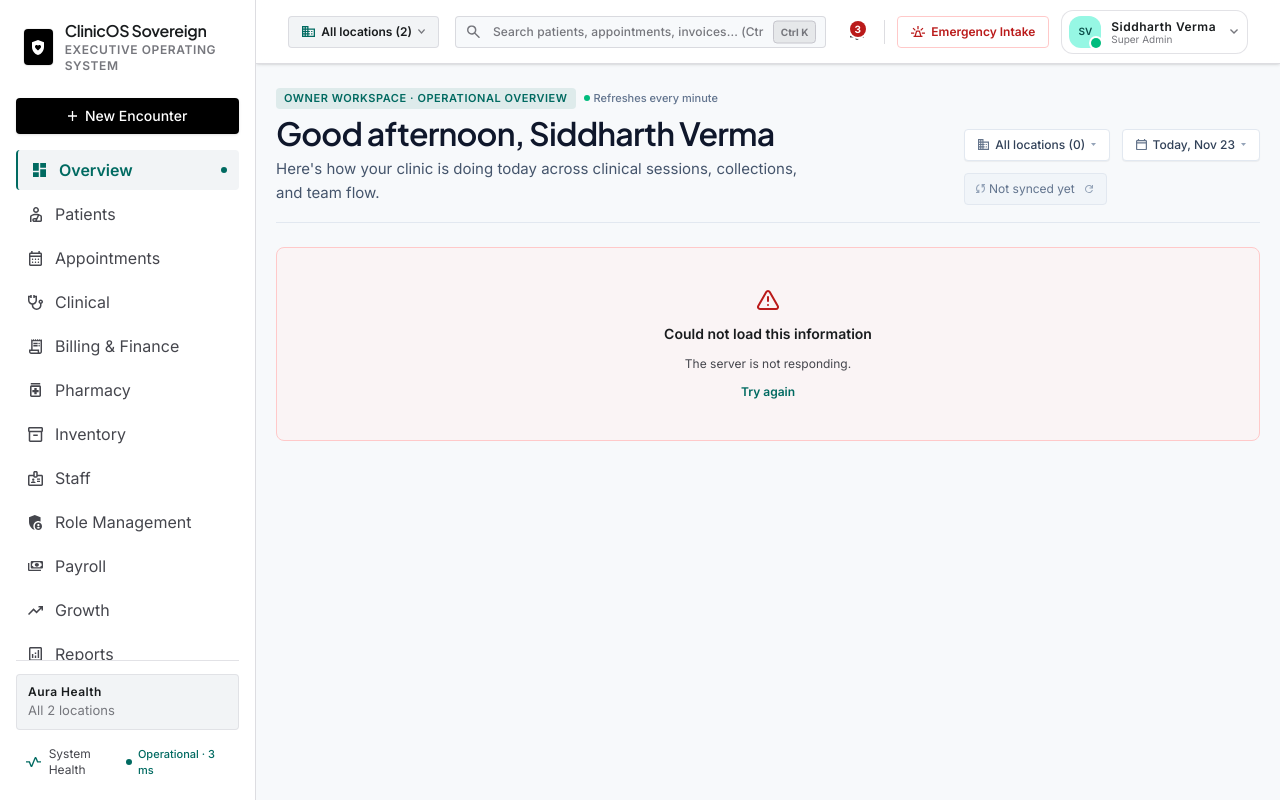
Scenario: owner dashboard › explains a failed load and retries
Expected: the text "The server is not responding." is shown, [685,356,851,372]
Click the button "Try again" at (768, 392), box [741,384,795,400]
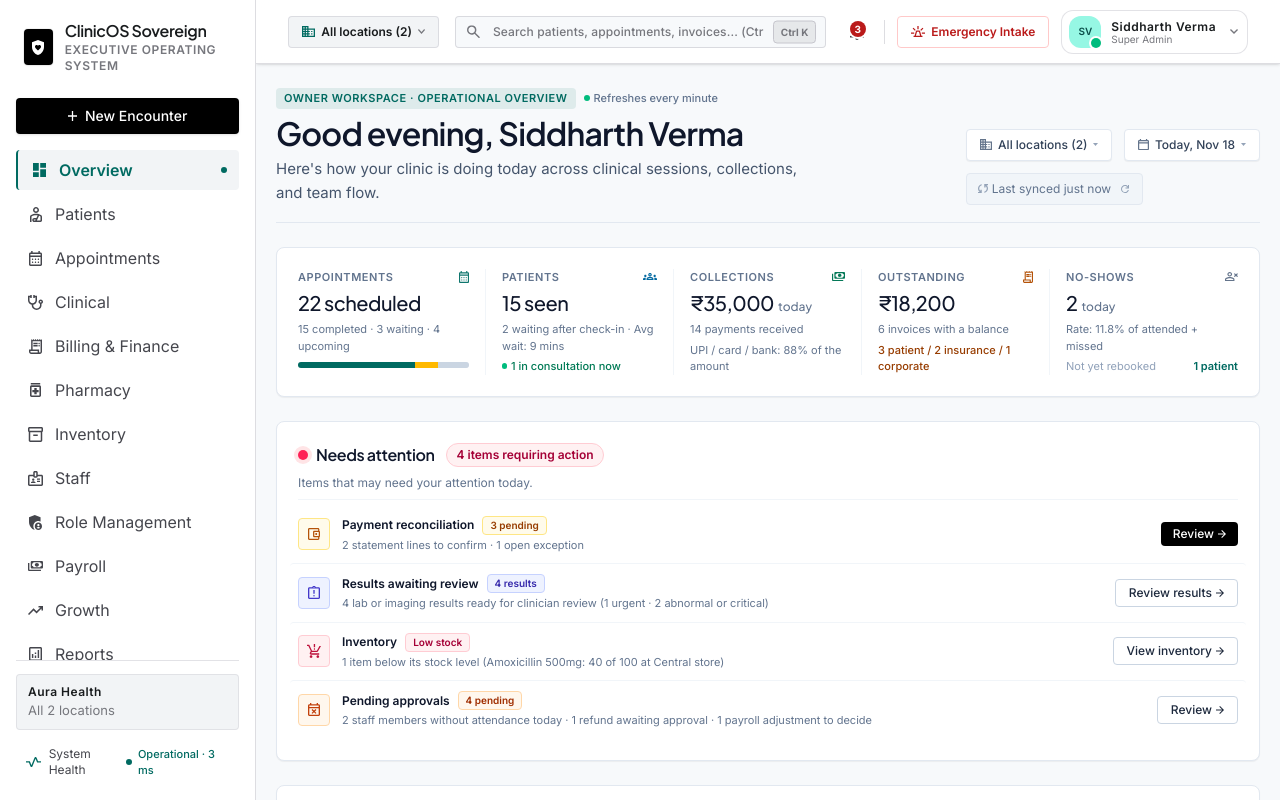
Now the text "22 scheduled" is shown, box [298,290,421,315]
